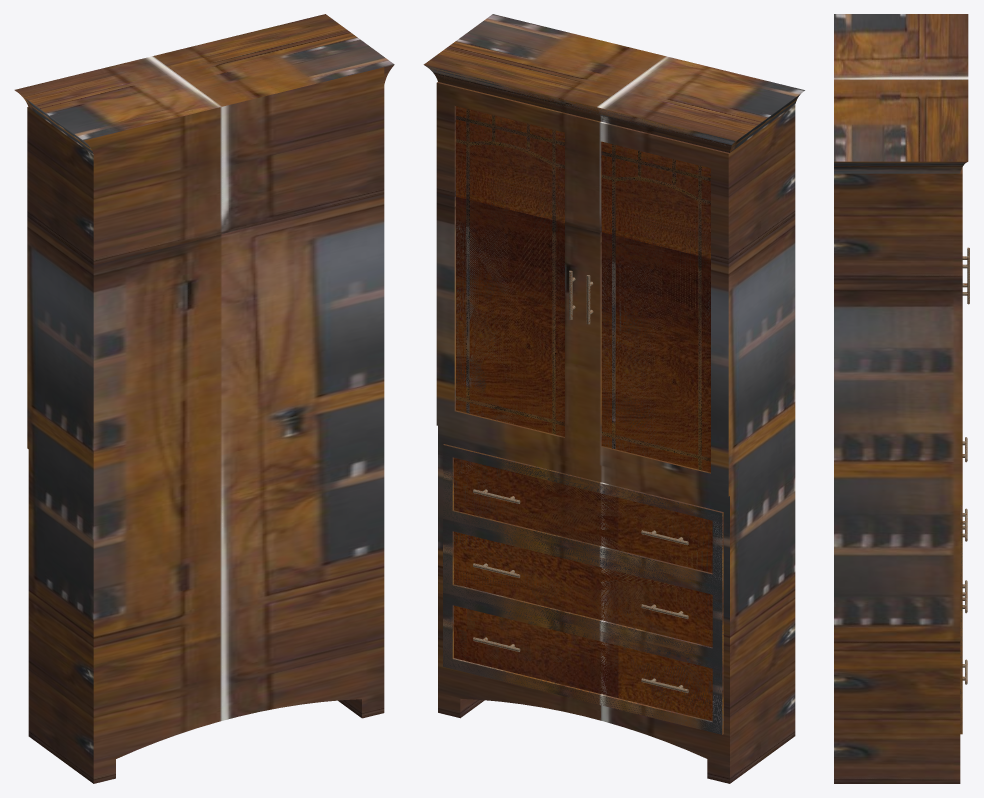
The picture shows the model from 3 angles, left to right: view 1: azimuth 30°, elevation 25°; view 2: azimuth 150°, elevation 25°; view 3: azimuth 270°, elevation 25°; orthographic projection. The views are drawn at different scales.
Parts seen in each view (by area): view 1: mesh25_mesh25-geometry; view 2: mesh25_mesh25-geometry; view 3: mesh25_mesh25-geometry.
Part boxes in pixels (x1,y1,x2,y2): mesh25_mesh25-geometry: (14, 14, 394, 783); mesh25_mesh25-geometry: (423, 14, 804, 783); mesh25_mesh25-geometry: (834, 14, 968, 783).
Size of the model in its own units: 0.4437 by 0.8794 by 0.1727.
